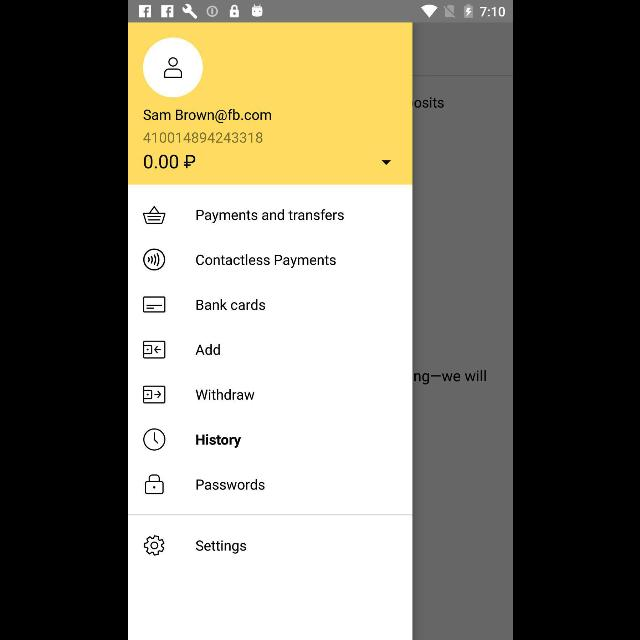icon: (142, 38, 202, 98), (143, 429, 165, 451), (144, 534, 164, 556), (142, 386, 166, 404), (142, 341, 166, 359), (142, 206, 166, 224), (144, 474, 164, 494), (142, 297, 166, 313), (382, 160, 391, 166)
image: (143, 249, 165, 271)
panel: (128, 22, 412, 640)
text: (196, 209, 344, 223), (142, 108, 270, 124), (195, 254, 335, 268), (142, 131, 262, 143), (143, 154, 195, 170), (196, 478, 264, 490), (194, 540, 246, 554), (194, 389, 253, 401), (196, 300, 264, 310), (196, 434, 240, 448), (194, 344, 220, 356)
uppertaskbar: (128, 1, 512, 23)
